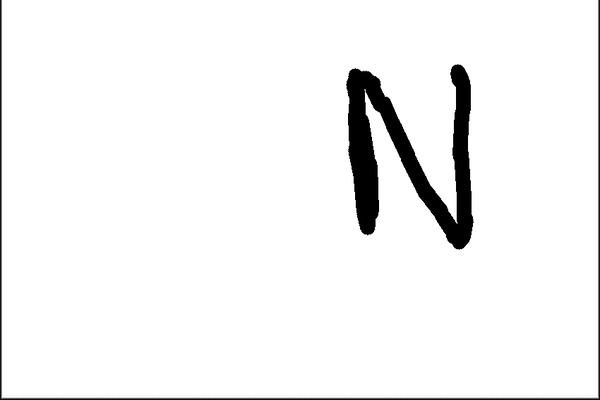N: (341, 56, 480, 256)
